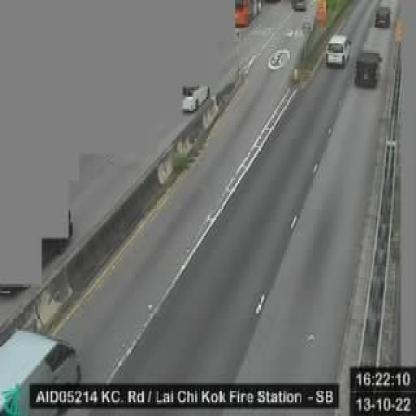Car: (1, 332, 78, 413), (355, 49, 380, 88), (326, 35, 350, 68), (374, 4, 390, 27)
